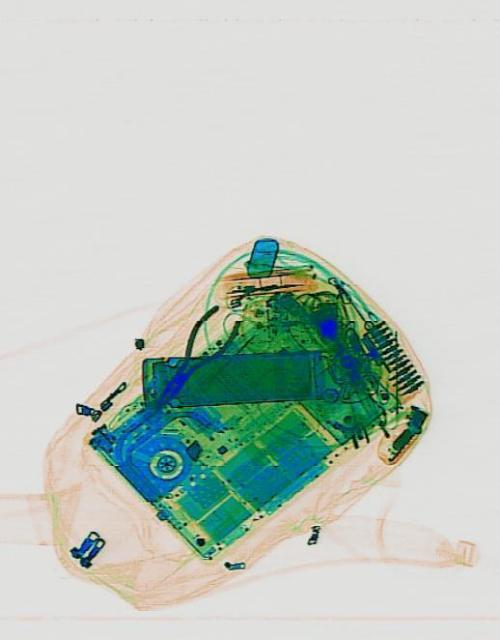Pliers: (137, 296, 241, 426)
